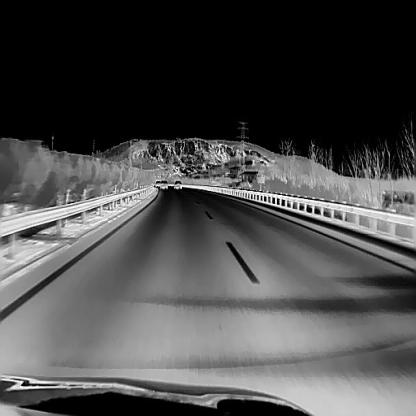car: (159, 178, 168, 188), (173, 178, 182, 188), (155, 180, 160, 186)
